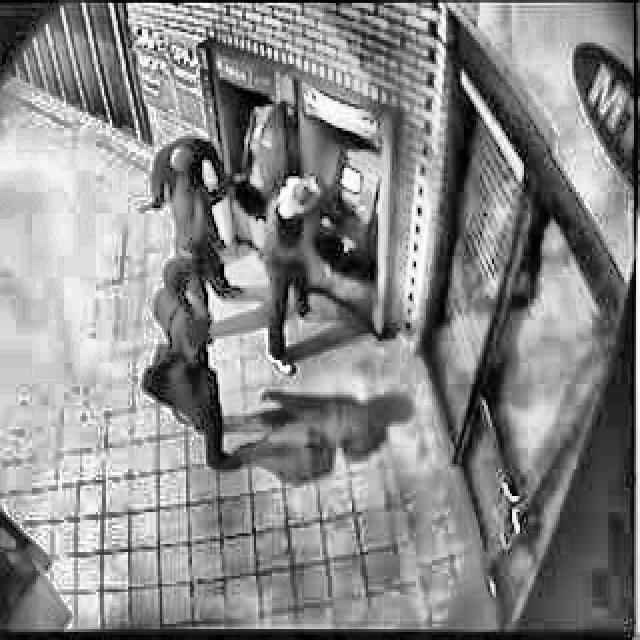burglary: (137, 90, 386, 476)
